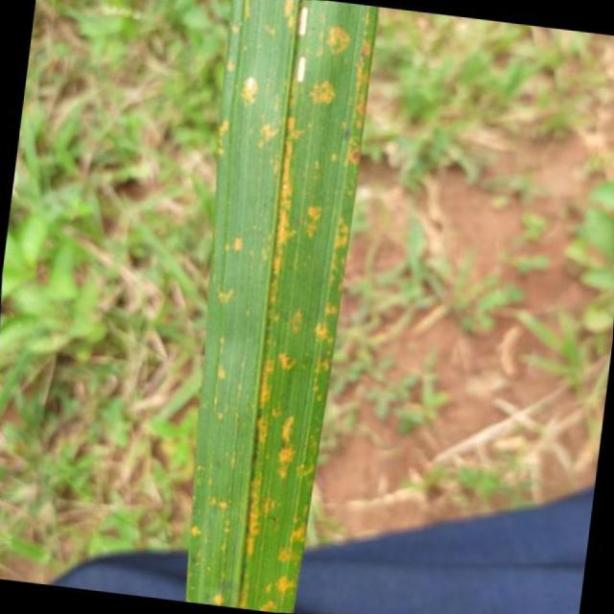Kalium: (184, 0, 380, 614)
